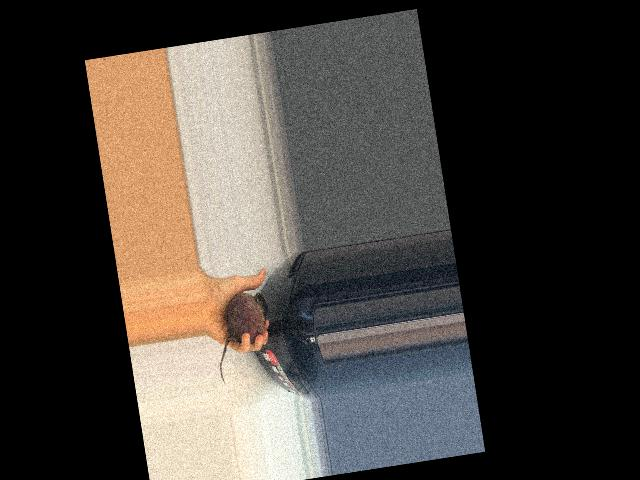beet: (208, 290, 278, 384)
